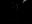person: (21, 0, 28, 4)
